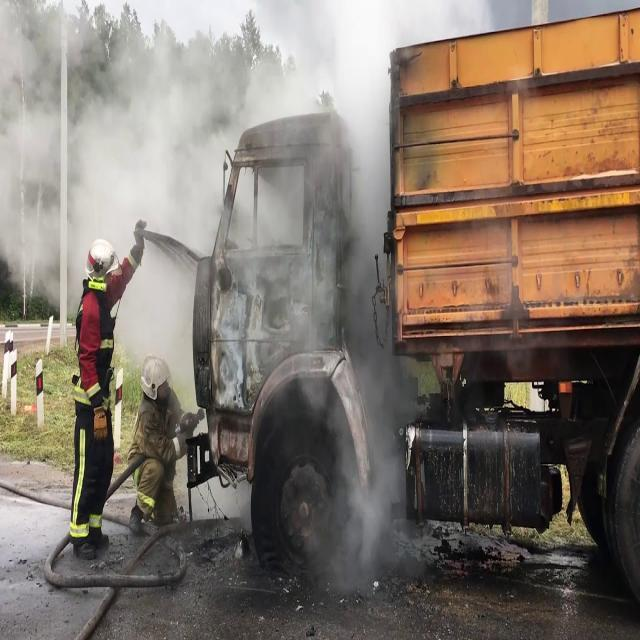Smoke: (0, 0, 392, 364), (296, 349, 428, 589)
